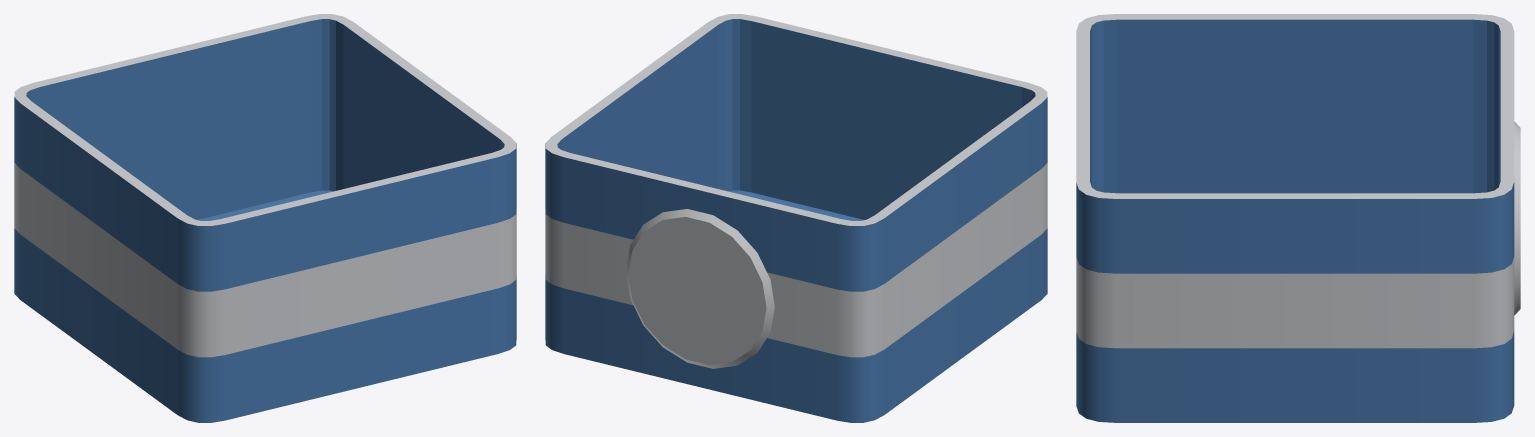
The model's file is Caja-Dados Azul.FBX.
3 views of the same model, side by side, from view 1: azimuth 30°, elevation 25°; view 2: azimuth 150°, elevation 25°; view 3: azimuth 270°, elevation 25° (orthographic). The views are drawn at different scales.
Parts seen in each view (by area): view 1: Box004; view 2: Box004; view 3: Box004.
Boxes of the visible parts, x1,y1,x2,y2 form: Box004: (14,14,516,422); Box004: (545,14,1047,422); Box004: (1076,14,1520,422).
Bounding box in the file's own units: 25 × 25.37 × 14.11.
